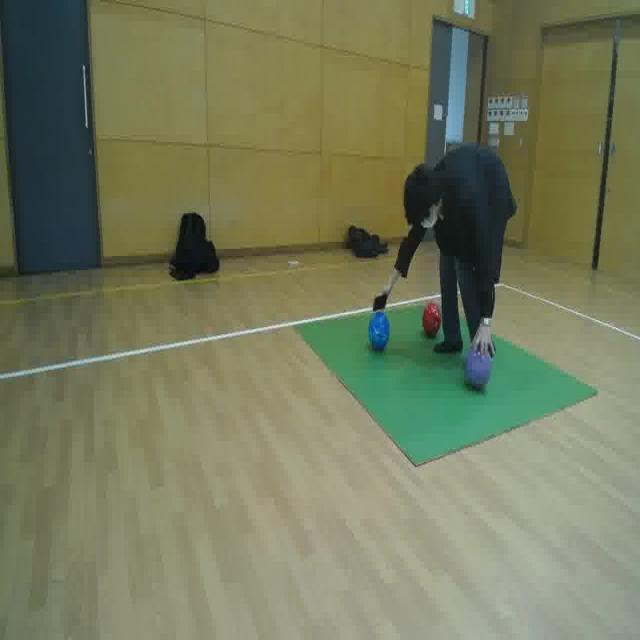blue_ball: (368, 310, 391, 351)
purple_ball: (465, 343, 491, 389)
red_ball: (421, 302, 441, 337)
